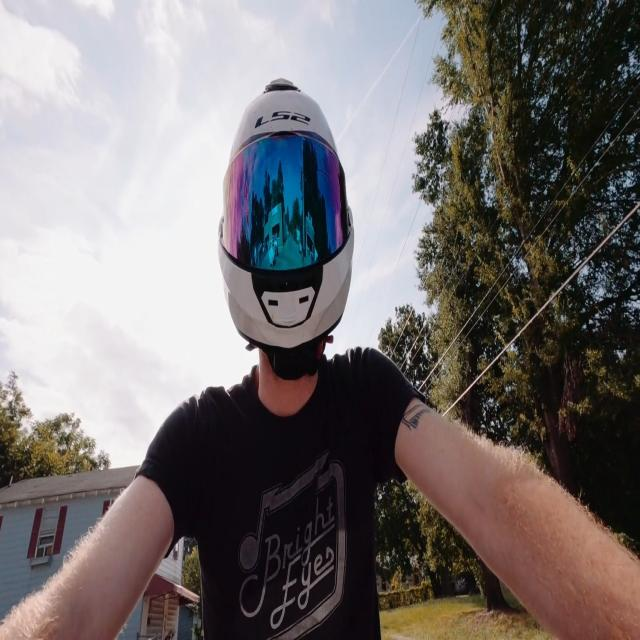Helmet_Wearer: (204, 80, 357, 408)
Person: (13, 80, 634, 640)
